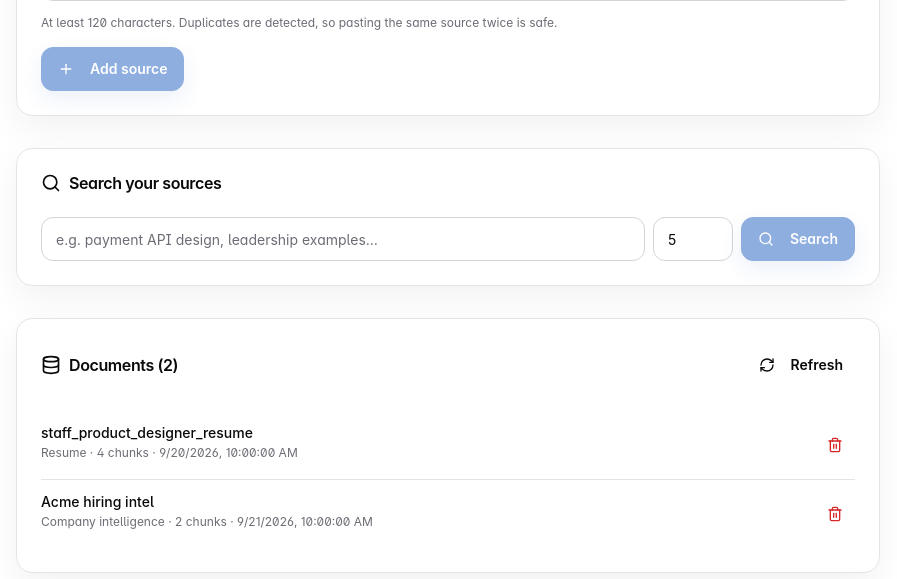
Scenario: KnowledgePanel › surfaces the similarity score the search API already returns
(page scrolled)
expect the text "staff_product_designer_resume" is shown: met, box [41,424,253,441]
Type "payments" into the field named "search knowledge".
click(343, 239); type("payments")  # box [41,217,645,261]
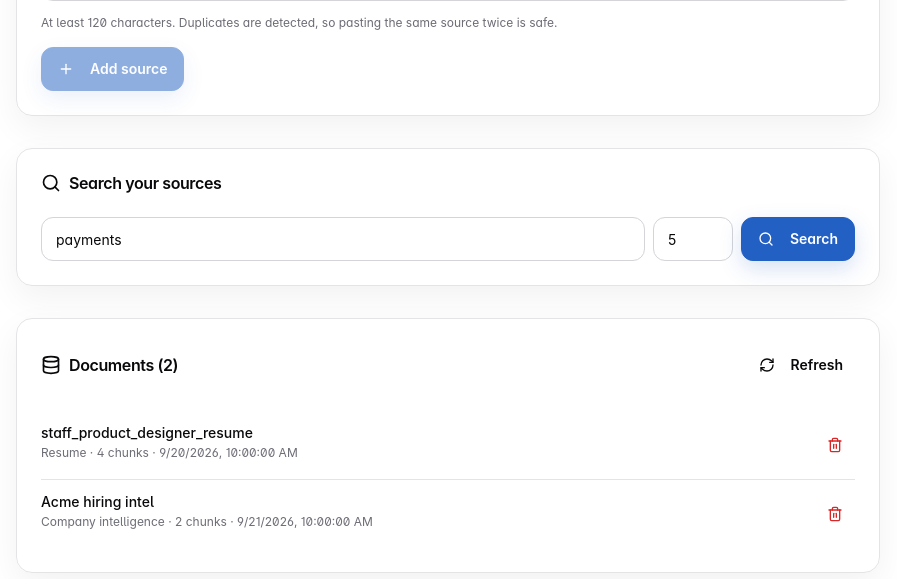
Click the button "Search".
click(798, 239)  # box [741,217,855,261]
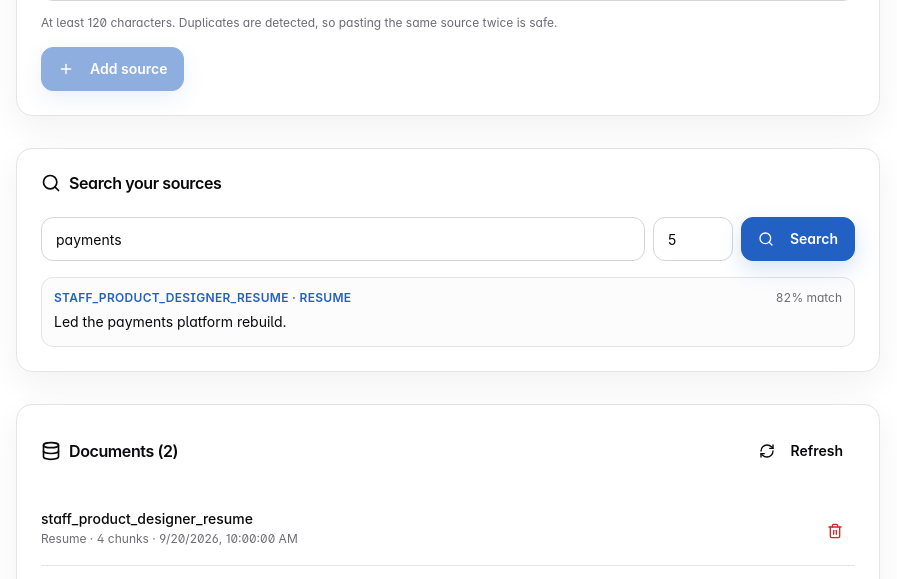
expect the text "82% match" is shown: met, box [776,290,842,306]
